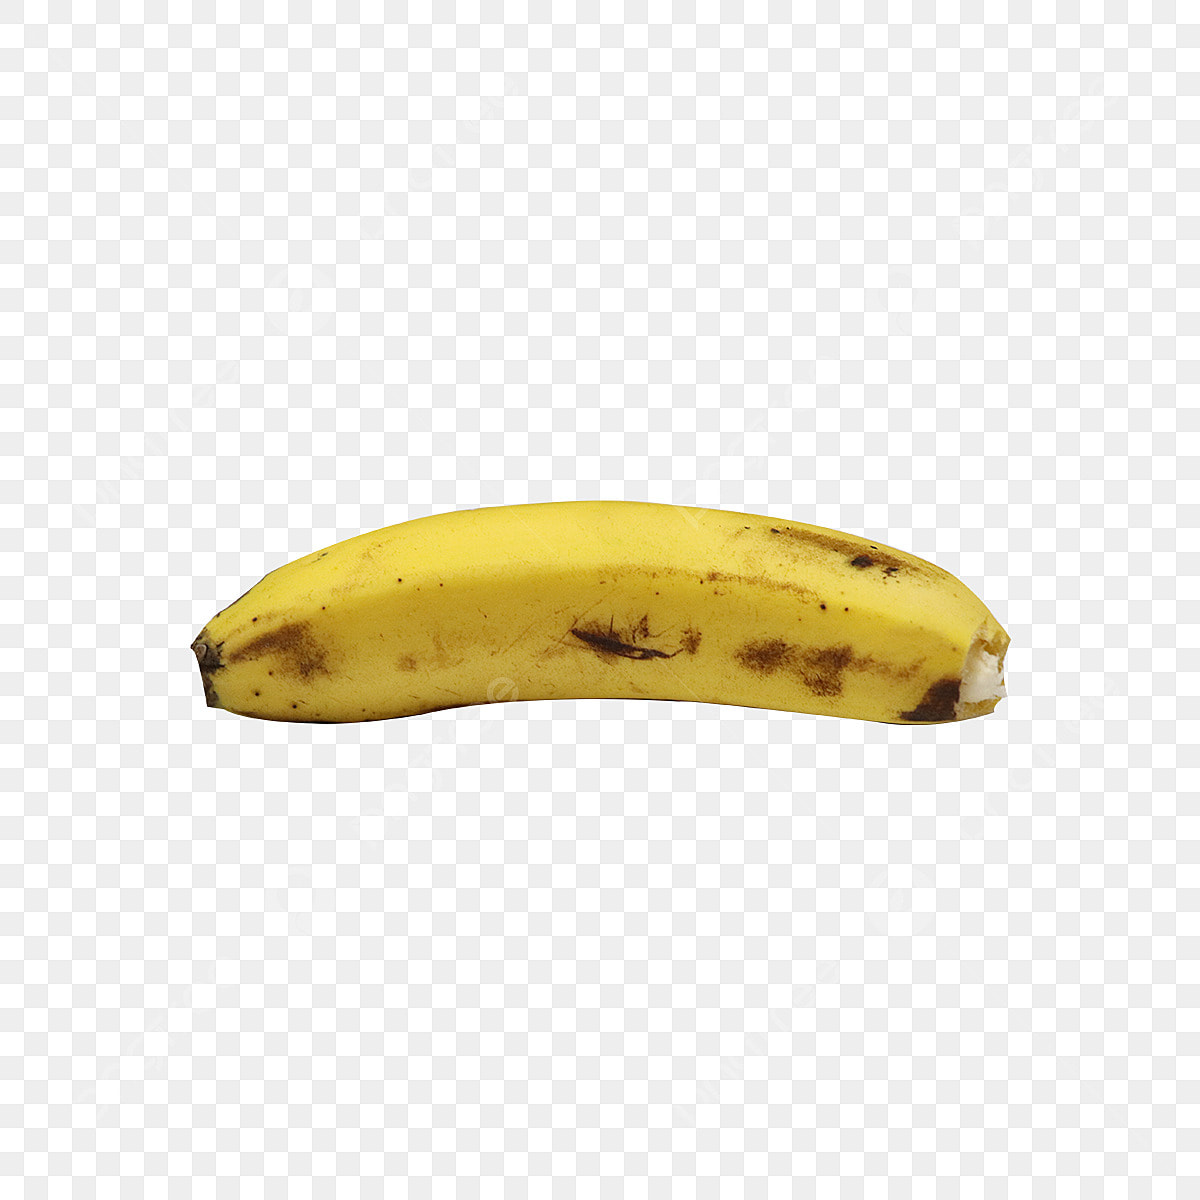banana: (171, 462, 1105, 864)
